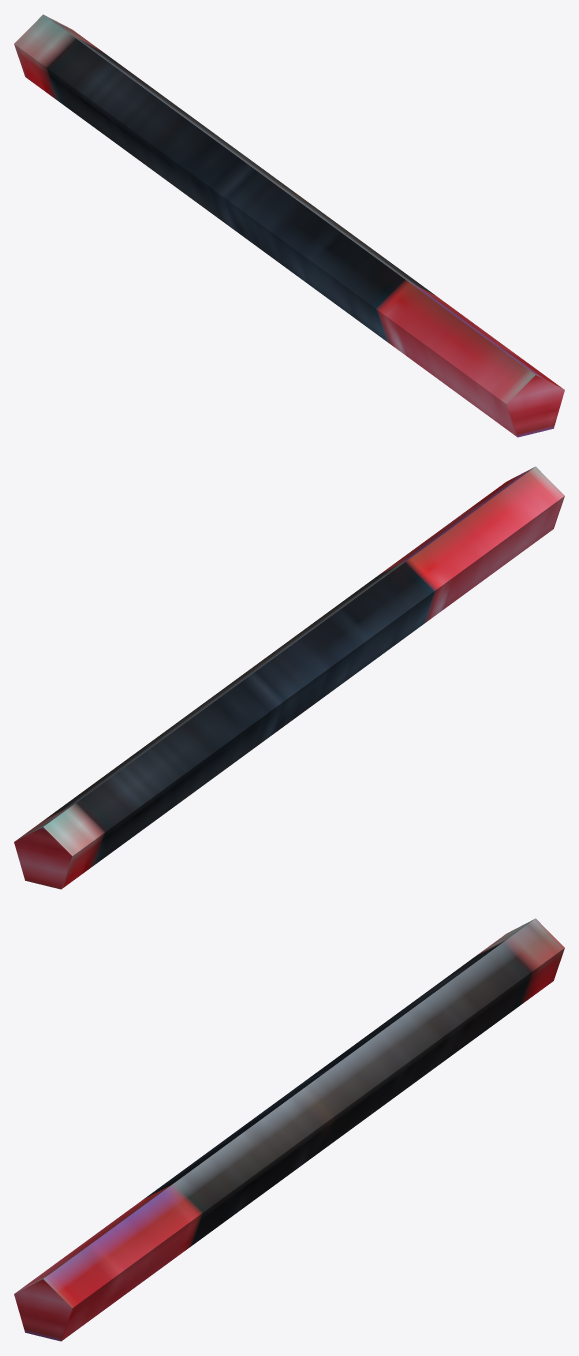
File: Pencil01a.obj
The picture shows the model from 3 angles, top to bottom: view 1: azimuth 30°, elevation 25°; view 2: azimuth 150°, elevation 25°; view 3: azimuth 330°, elevation 25°; orthographic projection.
Visible parts, largest first — view 1: Pencil01a; view 2: Pencil01a; view 3: Pencil01a.
Boxes of the visible parts, x1,y1,x2,y2 form: Pencil01a: [14, 14, 564, 437]; Pencil01a: [14, 466, 564, 889]; Pencil01a: [14, 918, 564, 1341].
Bounding box in the file's own units: 0.0342 × 0.0325 × 0.5.
